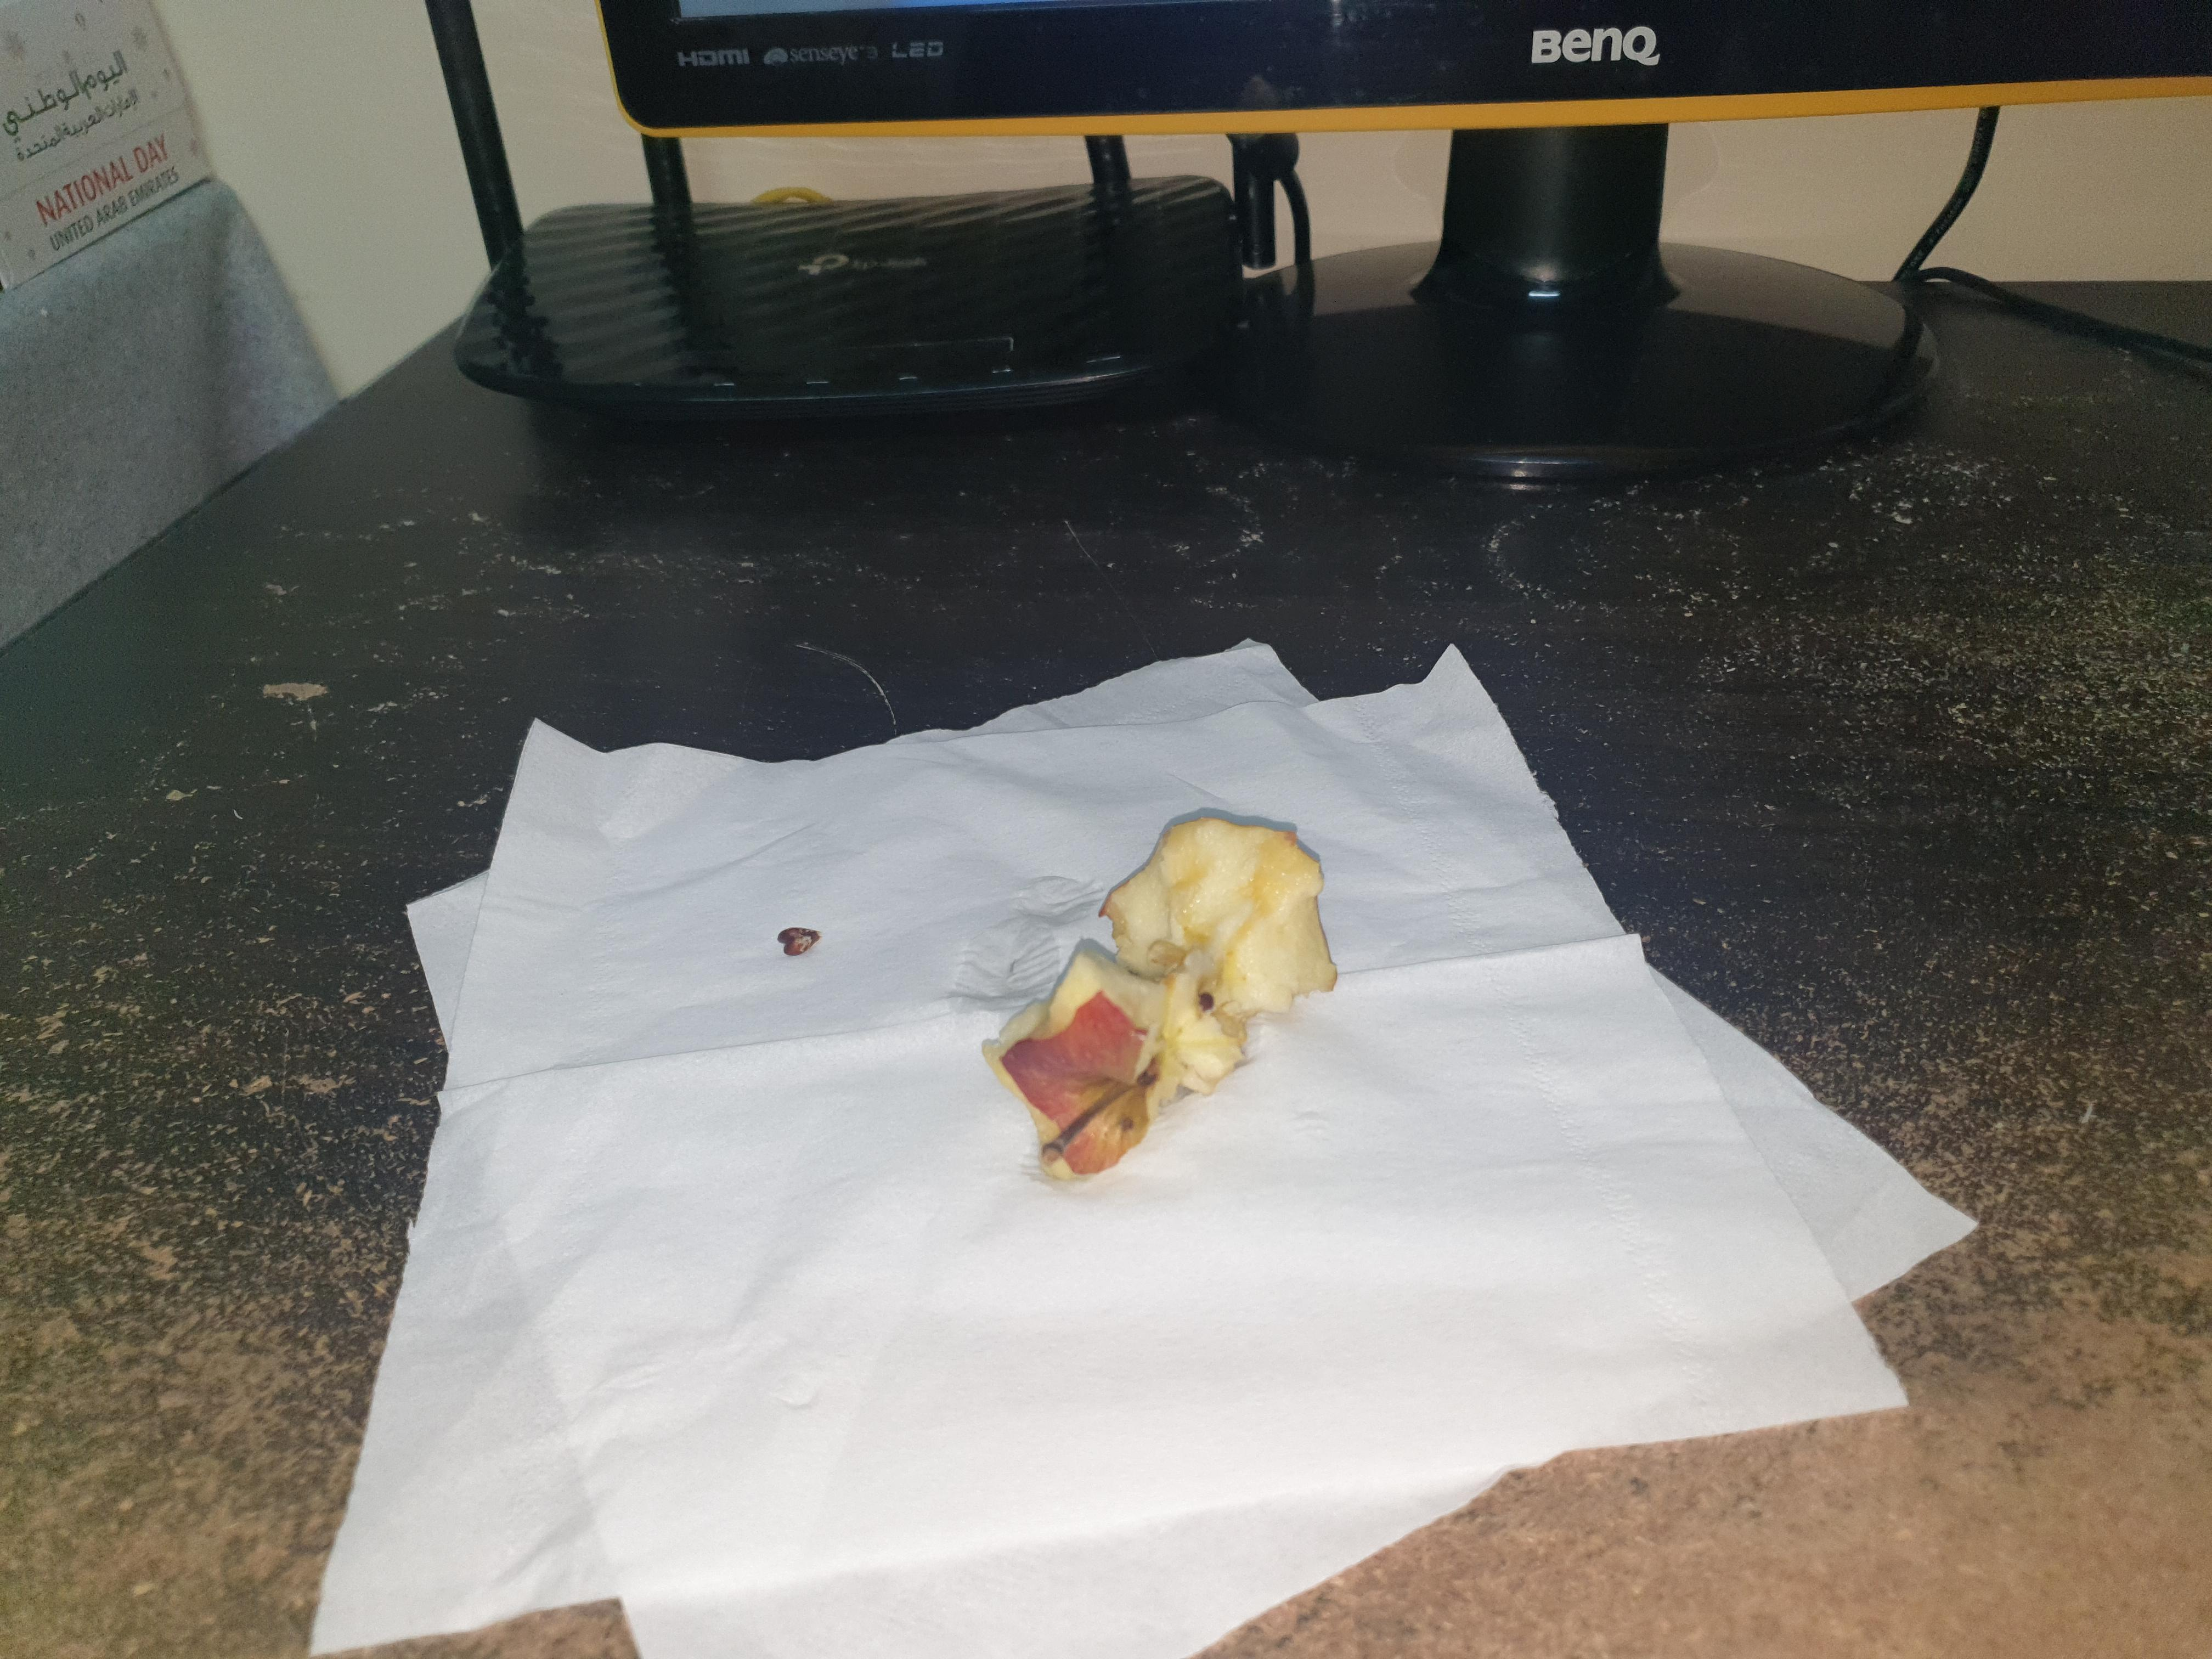Apple: (1000, 791, 1338, 1209)
